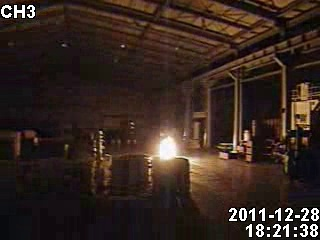fire: (154, 133, 183, 163)
